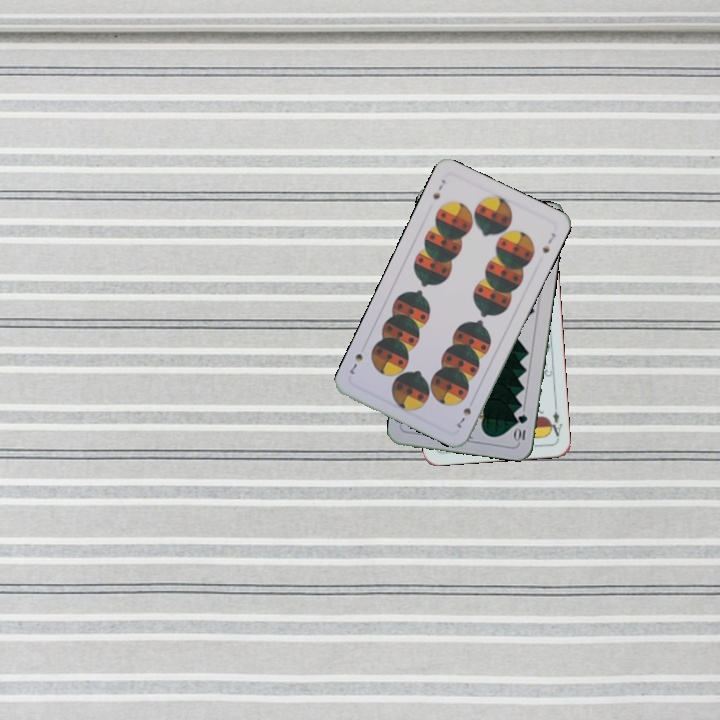EA: (545, 401, 565, 441)
G10: (511, 410, 530, 444)
S7: (453, 403, 474, 431), (429, 175, 448, 202)
